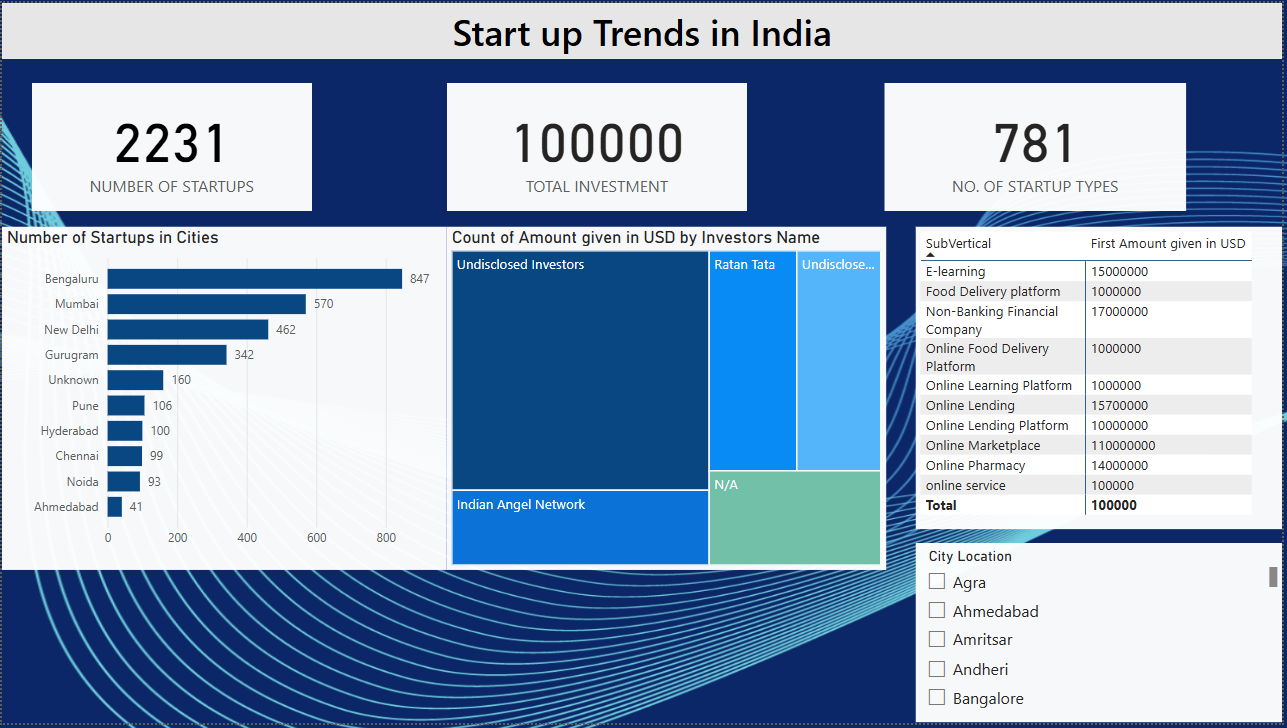

The dashboard page shown, as its layout file describes it:
{"tool":"powerbi","page":{"name":"Page 1","canvas":[1280,720],"ordinal":0},"visuals":[{"type":"card","title":"Total Number of Startups","fields":{"Values":["startup 06 10 2022.Startup Name "]},"box":[30,80.5,279.8,128.3],"z":0},{"type":"card","fields":{"Values":["startup 06 10 2022.Amount given in USD"]},"box":[445,80.5,300.3,128.3],"z":1},{"type":"card","fields":{"Values":["startup 06 10 2022.Industry Vertical"]},"box":[883.1,80.5,301.6,128.3],"z":2},{"type":"shape","box":[0,0,1280.3,56.3],"z":3},{"type":"clusteredBarChart","title":"Number of Startups in Cities","fields":{"Category":["startup 06 10 2022.City Location"],"Y":["startup 06 10 2022.City Location"]},"box":[0,223.8,444.7,343.5],"z":4},{"type":"treemap","fields":{"Group":["startup 06 10 2022.Investors Name"],"Values":["startup 06 10 2022.Amount given in USD"]},"box":[444.7,223.8,439,343.5],"z":5},{"type":"pivotTable","fields":{"Values":["startup 06 10 2022.Amount given in USD"],"Rows":["startup 06 10 2022.SubVertical"]},"box":[913.7,223.8,366.3,302.2],"z":6},{"type":"slicer","fields":{"Values":["startup 06 10 2022.City Location"]},"box":[913.7,540.2,366.3,179.6],"z":7}]}

Visuals, with their boxes in screenshot pixels (x1, y1, x2, y2), scaled from the page's 1280x720 canvas onto the 1287x728 screenshot:
"Total Number of Startups" card: rect(30, 81, 311, 211)
card - startup 06 10 2022.Amount given in USD: rect(447, 81, 749, 211)
card - startup 06 10 2022.Industry Vertical: rect(888, 81, 1191, 211)
shape: rect(0, 0, 1286, 57)
"Number of Startups in Cities" clusteredBarChart: rect(0, 226, 447, 574)
treemap - startup 06 10 2022.Investors Name x startup 06 10 2022.Amount given in USD: rect(447, 226, 889, 574)
pivotTable - startup 06 10 2022.Amount given in USD x startup 06 10 2022.SubVertical: rect(919, 226, 1286, 532)
slicer - startup 06 10 2022.City Location: rect(919, 546, 1286, 727)
